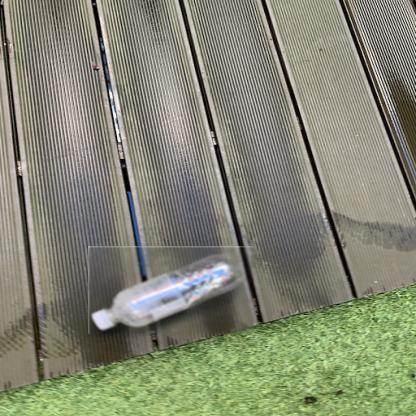plastic-bottles: (89, 247, 256, 336)
